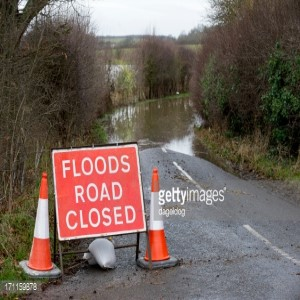traffic cone: (19, 173, 61, 278), (136, 167, 178, 269)
